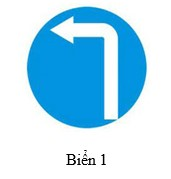Turn_left: (25, 5, 150, 130)
